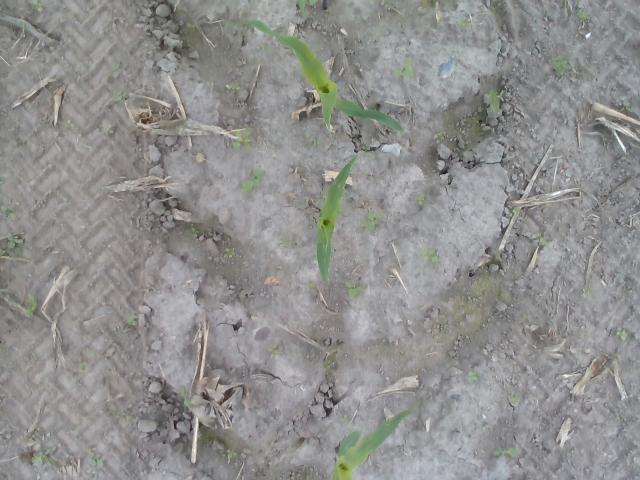Maize: (222, 17, 404, 133), (332, 408, 413, 480), (316, 155, 358, 281)
Weeds: (550, 52, 593, 80), (240, 166, 266, 194), (0, 233, 25, 258), (232, 128, 254, 153), (32, 447, 62, 465), (393, 57, 416, 80), (416, 246, 442, 266), (367, 208, 385, 235), (23, 294, 41, 320), (487, 83, 502, 113), (296, 0, 320, 17), (344, 280, 364, 299), (177, 384, 193, 406), (416, 192, 435, 208), (86, 448, 104, 464), (494, 447, 520, 458), (465, 366, 480, 385), (266, 344, 283, 360), (220, 448, 240, 461), (574, 7, 590, 23), (537, 232, 553, 247), (624, 96, 638, 113), (111, 90, 128, 104), (0, 206, 17, 219), (278, 238, 296, 250), (434, 130, 449, 144), (223, 81, 240, 93), (190, 222, 200, 241), (454, 18, 471, 29), (31, 0, 46, 12), (111, 64, 122, 80), (96, 127, 114, 136), (222, 248, 238, 258), (578, 120, 592, 129), (512, 206, 524, 216), (311, 135, 323, 145), (127, 314, 137, 326), (62, 120, 75, 129), (80, 360, 88, 374), (510, 390, 521, 400), (304, 280, 316, 289), (615, 328, 625, 338), (582, 287, 592, 296), (26, 432, 36, 441), (340, 414, 348, 423), (361, 143, 369, 152), (260, 43, 268, 48)
